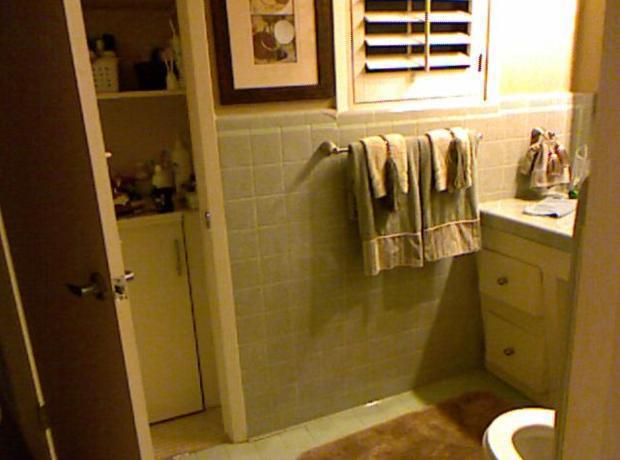Armario: (2, 2, 238, 456)
Sanitario: (490, 360, 617, 458)
